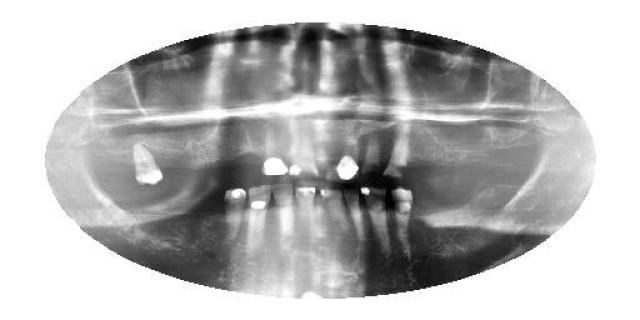Cavity: (382, 129, 412, 181), (222, 185, 248, 245), (361, 132, 384, 180)
Fillings: (222, 185, 248, 246), (258, 130, 290, 179), (331, 137, 361, 185)
